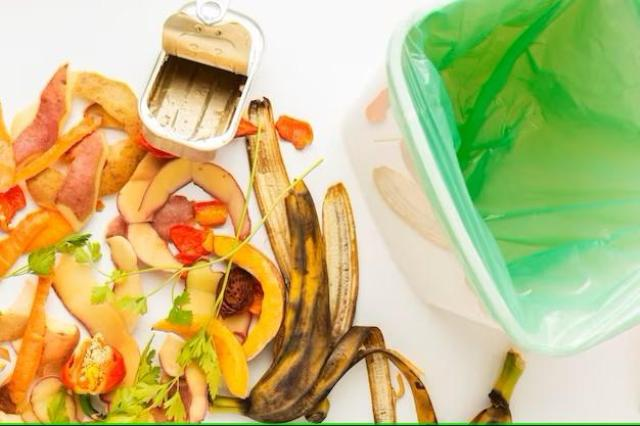Garbage: (0, 0, 534, 426)
Plastic: (139, 4, 265, 161)
